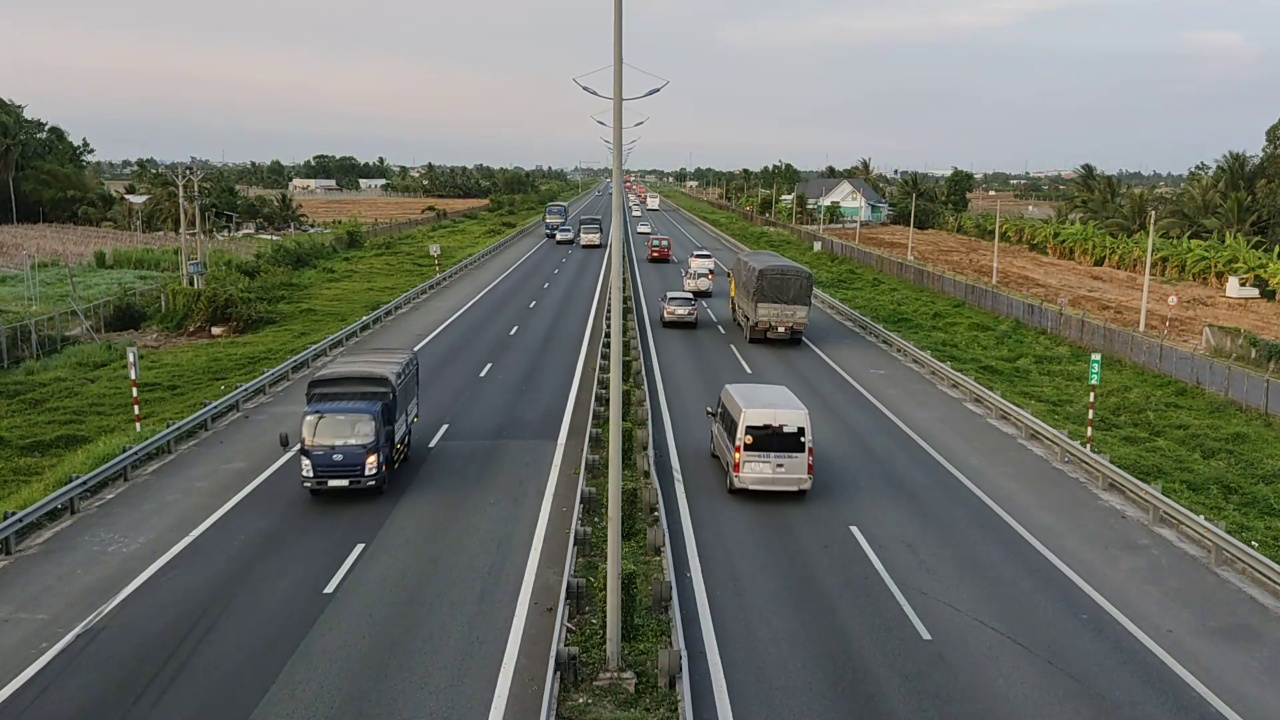bus: (729, 250, 813, 343)
car: (704, 381, 814, 494), (659, 290, 699, 327), (645, 235, 673, 263)
truck: (297, 346, 422, 496)
